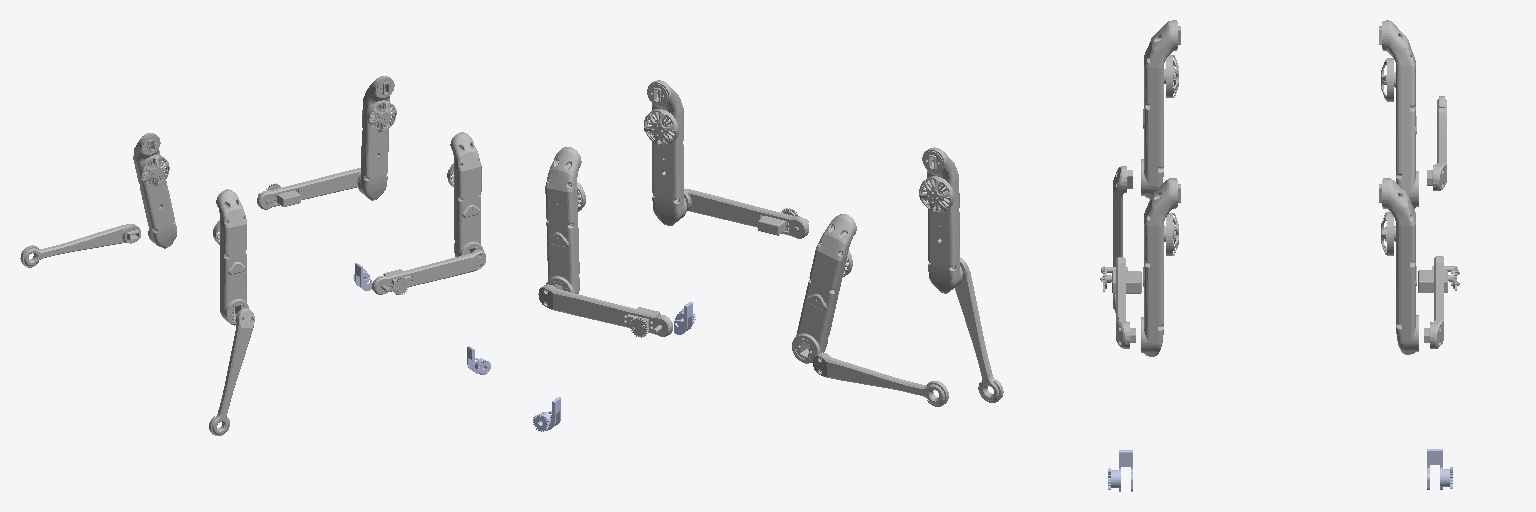
URDF robot description (solo8_URDF_v4):
<?xml version="1.0" encoding="utf-8"?>
<!-- This URDF was automatically created by SolidWorks to URDF Exporter! Originally created by [author] ([email redacted]) 
     Commit Version: 1.6.0-1-g15f4949  Build Version: 1.6.7594.29634
     For more information, please see http://wiki.ros.org/sw_urdf_exporter -->
<robot
  name="solo8_URDF_v4">
  <link
    name="base_link">
    <inertial>
      <origin
        xyz="-0.000131243804565513 -2.1877512663984E-07 -0.0434999979123721"
        rpy="0 0 0" />
      <mass
        value="1.08310148935514" />
      <inertia
        ixx="0.00078292100000959"
        ixy="-2.4726499499223E-09"
        ixz="-3.63300254721981E-10"
        iyy="0.00259878031126529"
        iyz="-1.55590918624866E-08"
        izz="0.00245312418407862" />
    </inertial>
    <visual>
      <origin
        xyz="0 0 0"
        rpy="0 0 0" />
      <geometry>
        <mesh
          filename="base_link.STL" />
      </geometry>
      <material
        name="">
        <color
          rgba="0.752941176470588 0.752941176470588 0.752941176470588 1" />
      </material>
    </visual>
    <collision>
      <origin
        xyz="0 0 0"
        rpy="0 0 0" />
      <geometry>
        <mesh
          filename="base_link.STL" />
      </geometry>
    </collision>
  </link>
  <link
    name="rear_left_upper_leg">
    <inertial>
      <origin
        xyz="0.0260463560497017 1.96058726216197E-05 0.0818383915482504"
        rpy="0 0 0" />
      <mass
        value="0.0878533269246308" />
      <inertia
        ixx="0.000160165468405235"
        ixy="5.98615459821546E-09"
        ixz="-1.01735410352558E-05"
        iyy="0.00015477566312305"
        iyz="7.25231006351549E-08"
        izz="1.45900829531821E-05" />
    </inertial>
    <visual>
      <origin
        xyz="0 0 0"
        rpy="0 0 0" />
      <geometry>
        <mesh
          filename="rear_left_upper_leg.STL" />
      </geometry>
      <material
        name="">
        <color
          rgba="0.752941176470588 0.752941176470588 0.752941176470588 1" />
      </material>
    </visual>
    <collision>
      <origin
        xyz="0 0 0"
        rpy="0 0 0" />
      <geometry>
        <mesh
          filename="rear_left_upper_leg.STL" />
      </geometry>
    </collision>
  </link>
  <joint
    name="HL_HFE"
    type="revolute">
    <origin
      xyz="0.19 -0.09805 -0.0435"
      rpy="3.1416 0 -1.5708" />
    <parent
      link="base_link" />
    <child
      link="rear_left_upper_leg" />
    <axis
      xyz="1 0 0" />
    <limit
      lower="-10"
      upper="10"
      effort="1000"
      velocity="1000" />
  </joint>
  <link
    name="rear_left_lower_leg">
    <inertial>
      <origin
        xyz="0.00798615918661305 -1.97240518362563E-09 0.0871955396993983"
        rpy="0 0 0" />
      <mass
        value="0.0568162066846248" />
      <inertia
        ixx="0.000116328623228087"
        ixy="-1.4413584564191E-12"
        ixz="-2.14214688984561E-06"
        iyy="0.000115301324090038"
        iyz="-6.13770553608215E-10"
        izz="3.92621698046174E-06" />
    </inertial>
    <visual>
      <origin
        xyz="0 0 0"
        rpy="0 0 0" />
      <geometry>
        <mesh
          filename="rear_left_lower_leg.STL" />
      </geometry>
      <material
        name="">
        <color
          rgba="0.752941176470588 0.752941176470588 0.752941176470588 1" />
      </material>
    </visual>
    <collision>
      <origin
        xyz="0 0 0"
        rpy="0 0 0" />
      <geometry>
        <mesh
          filename="rear_left_lower_leg.STL" />
      </geometry>
    </collision>
  </link>
  <joint
    name="HL_KFE"
    type="revolute">
    <origin
      xyz="0.04295 0 0.16"
      rpy="0 0 0" />
    <parent
      link="rear_left_upper_leg" />
    <child
      link="rear_left_lower_leg" />
    <axis
      xyz="1 0 0" />
    <limit
      lower="-10"
      upper="10"
      effort="1000"
      velocity="1000" />
  </joint>
  <link
    name="left_foot">
    <inertial>
      <origin
        xyz="0.00386607635157957 0.00146889156210511 -0.00743039693171482"
        rpy="0 0 0" />
      <mass
        value="0.00519421726516874" />
      <inertia
        ixx="5.76032025518373E-07"
        ixy="-1.81210163948847E-07"
        ixz="-1.51341930469166E-07"
        iyy="6.44238012165571E-07"
        iyz="-5.16314838570299E-08"
        izz="6.36337715625955E-07" />
    </inertial>
    <visual>
      <origin
        xyz="0 0 0"
        rpy="0 0 0" />
      <geometry>
        <mesh
          filename="left_foot.STL" />
      </geometry>
      <material
        name="">
        <color
          rgba="0.792156862745098 0.819607843137255 0.933333333333333 1" />
      </material>
    </visual>
    <collision>
      <origin
        xyz="0 0 0"
        rpy="0 0 0" />
      <geometry>
        <mesh
          filename="left_foot.STL" />
      </geometry>
    </collision>
  </link>
  <joint
    name="HL_ANKLE"
    type="revolute">
    <origin
      xyz="0.009 0 0.16"
      rpy="-1.5708 0 1.5708" />
    <parent
      link="rear_left_lower_leg" />
    <child
      link="left_foot" />
    <axis
      xyz="0 0 -1" />
    <limit
      lower="-10"
      upper="10"
      effort="1000"
      velocity="1000" />
  </joint>
  <link
    name="rear_right_upper_leg">
    <inertial>
      <origin
        xyz="0.0260463416796457 0.0818382398206385 -1.96475353925196E-05"
        rpy="0 0 0" />
      <mass
        value="0.0878534992285754" />
      <inertia
        ixx="0.000160166486207479"
        ixy="-1.0173668173731E-05"
        ixz="-6.02181345311133E-09"
        iyy="1.45901216597277E-05"
        iyz="-7.2801573302373E-08"
        izz="0.000154776708796327" />
    </inertial>
    <visual>
      <origin
        xyz="0 0 0"
        rpy="0 0 0" />
      <geometry>
        <mesh
          filename="rear_right_upper_leg.STL" />
      </geometry>
      <material
        name="">
        <color
          rgba="0.752941176470588 0.752941176470588 0.752941176470588 1" />
      </material>
    </visual>
    <collision>
      <origin
        xyz="0 0 0"
        rpy="0 0 0" />
      <geometry>
        <mesh
          filename="rear_right_upper_leg.STL" />
      </geometry>
    </collision>
  </link>
  <joint
    name="HR_HFE"
    type="revolute">
    <origin
      xyz="0.19 0.09805 -0.0435"
      rpy="-1.5708 0 1.5708" />
    <parent
      link="base_link" />
    <child
      link="rear_right_upper_leg" />
    <axis
      xyz="1 0 0" />
    <limit
      lower="-10"
      upper="10"
      effort="1000"
      velocity="1000" />
  </joint>
  <link
    name="rear_right_lower_leg">
    <inertial>
      <origin
        xyz="-0.00797510895141648 2.02971700558052E-09 0.0871955400372977"
        rpy="0 0 0" />
      <mass
        value="0.0568162062662583" />
      <inertia
        ixx="0.000116328622478411"
        ixy="-1.44920779054025E-12"
        ixz="2.14214690301966E-06"
        iyy="0.000115301448850468"
        iyz="7.24188217803086E-10"
        izz="3.92609149618552E-06" />
    </inertial>
    <visual>
      <origin
        xyz="0 0 0"
        rpy="0 0 0" />
      <geometry>
        <mesh
          filename="rear_right_lower_leg.STL" />
      </geometry>
      <material
        name="">
        <color
          rgba="0.752941176470588 0.752941176470588 0.752941176470588 1" />
      </material>
    </visual>
    <collision>
      <origin
        xyz="0 0 0"
        rpy="0 0 0" />
      <geometry>
        <mesh
          filename="rear_right_lower_leg.STL" />
      </geometry>
    </collision>
  </link>
  <joint
    name="HR_KFE"
    type="revolute">
    <origin
      xyz="0.04295 0.16 0"
      rpy="1.5708 0 -3.1416" />
    <parent
      link="rear_right_upper_leg" />
    <child
      link="rear_right_lower_leg" />
    <axis
      xyz="-1 0 0" />
    <limit
      lower="-10"
      upper="10"
      effort="1000"
      velocity="1000" />
  </joint>
  <link
    name="right_foot">
    <inertial>
      <origin
        xyz="0.00429876417655284 0.00138010818742385 0.00655818213531878"
        rpy="0 0 0" />
      <mass
        value="0.00552399106597403" />
      <inertia
        ixx="6.66262862375418E-07"
        ixy="-2.06352165604718E-07"
        ixz="1.58932083905544E-07"
        iyy="7.33640914324836E-07"
        iyz="4.23025973019174E-08"
        izz="7.06402190944134E-07" />
    </inertial>
    <visual>
      <origin
        xyz="0 0 0"
        rpy="0 0 0" />
      <geometry>
        <mesh
          filename="right_foot.STL" />
      </geometry>
      <material
        name="">
        <color
          rgba="0.792156862745098 0.819607843137255 0.933333333333333 1" />
      </material>
    </visual>
    <collision>
      <origin
        xyz="0 0 0"
        rpy="0 0 0" />
      <geometry>
        <mesh
          filename="right_foot.STL" />
      </geometry>
    </collision>
  </link>
  <joint
    name="HR_ANKLE"
    type="revolute">
    <origin
      xyz="-0.00925 0 0.16"
      rpy="-1.5708 0 1.5708" />
    <parent
      link="rear_right_lower_leg" />
    <child
      link="right_foot" />
    <axis
      xyz="0 0 1" />
    <limit
      lower="-10"
      upper="10"
      effort="1000"
      velocity="1000" />
  </joint>
  <link
    name="front_left_upper_leg">
    <inertial>
      <origin
        xyz="0.0260463213501499 1.96051061115143E-05 0.0818380959136073"
        rpy="0 0 0" />
      <mass
        value="0.0878537035476835" />
      <inertia
        ixx="0.000160165160326423"
        ixy="5.97988996236533E-09"
        ixz="-1.01734766862367E-05"
        iyy="0.000154775389279724"
        iyz="7.2491964765402E-08"
        izz="1.45901195907274E-05" />
    </inertial>
    <visual>
      <origin
        xyz="0 0 0"
        rpy="0 0 0" />
      <geometry>
        <mesh
          filename="front_left_upper_leg.STL" />
      </geometry>
      <material
        name="">
        <color
          rgba="0.752941176470588 0.752941176470588 0.752941176470588 1" />
      </material>
    </visual>
    <collision>
      <origin
        xyz="0 0 0"
        rpy="0 0 0" />
      <geometry>
        <mesh
          filename="front_left_upper_leg.STL" />
      </geometry>
    </collision>
  </link>
  <joint
    name="FL_HFE"
    type="revolute">
    <origin
      xyz="-0.19 -0.09805 -0.0435"
      rpy="3.1416 0 -1.5708" />
    <parent
      link="base_link" />
    <child
      link="front_left_upper_leg" />
    <axis
      xyz="1 0 0" />
    <limit
      lower="-10"
      upper="10"
      effort="1000"
      velocity="1000" />
  </joint>
  <link
    name="front_left_lower_leg">
    <inertial>
      <origin
        xyz="0.000812954907024432 -0.0709663568959096 3.16708653191888E-08"
        rpy="0 0 0" />
      <mass
        value="0.0352176463863073" />
      <inertia
        ixx="0.000102544957886135"
        ixy="-1.95338237262207E-06"
        ixz="-1.83862183857662E-12"
        iyy="1.73308119670232E-06"
        iyz="-6.55038614981896E-11"
        izz="0.000101666357617047" />
    </inertial>
    <visual>
      <origin
        xyz="0 0 0"
        rpy="0 0 0" />
      <geometry>
        <mesh
          filename="front_left_lower_leg.STL" />
      </geometry>
      <material
        name="">
        <color
          rgba="0.752941176470588 0.752941176470588 0.752941176470588 1" />
      </material>
    </visual>
    <collision>
      <origin
        xyz="0 0 0"
        rpy="0 0 0" />
      <geometry>
        <mesh
          filename="front_left_lower_leg.STL" />
      </geometry>
    </collision>
  </link>
  <joint
    name="FL_KFE"
    type="revolute">
    <origin
      xyz="0.0519500000000016 0 0.16"
      rpy="-1.5707963267949 0 -3.14159265358979" />
    <parent
      link="front_left_upper_leg" />
    <child
      link="front_left_lower_leg" />
    <axis
      xyz="-1 0 0" />
    <limit
      lower="-10"
      upper="10"
      effort="1000"
      velocity="1000" />
  </joint>
  <link
    name="front_right_upper_leg">
    <inertial>
      <origin
        xyz="0.0260462217616799 0.0818371669464919 -1.96409034333711E-05"
        rpy="0 0 0" />
      <mass
        value="0.087854821599005" />
      <inertia
        ixx="0.000160172872993533"
        ixy="-1.01744862780989E-05"
        ixz="-6.02462268517269E-09"
        iyy="1.45900414152232E-05"
        iyz="-7.28060149796806E-08"
        izz="0.000154783006946061" />
    </inertial>
    <visual>
      <origin
        xyz="0 0 0"
        rpy="0 0 0" />
      <geometry>
        <mesh
          filename="front_right_upper_leg.STL" />
      </geometry>
      <material
        name="">
        <color
          rgba="0.752941176470588 0.752941176470588 0.752941176470588 1" />
      </material>
    </visual>
    <collision>
      <origin
        xyz="0 0 0"
        rpy="0 0 0" />
      <geometry>
        <mesh
          filename="front_right_upper_leg.STL" />
      </geometry>
    </collision>
  </link>
  <joint
    name="FR_HFE"
    type="revolute">
    <origin
      xyz="-0.190000000000001 0.0980500000000003 -0.0434999999999995"
      rpy="-1.5707963267949 0 1.5707963267949" />
    <parent
      link="base_link" />
    <child
      link="front_right_upper_leg" />
    <axis
      xyz="1 0 0" />
    <limit
      lower="-10"
      upper="10"
      effort="1000"
      velocity="1000" />
  </joint>
  <link
    name="front_right_lower_leg">
    <inertial>
      <origin
        xyz="0.00081295491320274 -0.0709663564341324 3.1561713798034E-08"
        rpy="0 0 0" />
      <mass
        value="0.0352176467961685" />
      <inertia
        ixx="0.000102544958492936"
        ixy="-1.95338234788562E-06"
        ixz="-1.84048280454168E-12"
        iyy="1.73308122040895E-06"
        iyz="-6.53557905951406E-11"
        izz="0.000101666358172514" />
    </inertial>
    <visual>
      <origin
        xyz="0 0 0"
        rpy="0 0 0" />
      <geometry>
        <mesh
          filename="front_right_lower_leg.STL" />
      </geometry>
      <material
        name="">
        <color
          rgba="0.752941176470588 0.752941176470588 0.752941176470588 1" />
      </material>
    </visual>
    <collision>
      <origin
        xyz="0 0 0"
        rpy="0 0 0" />
      <geometry>
        <mesh
          filename="front_right_lower_leg.STL" />
      </geometry>
    </collision>
  </link>
  <joint
    name="FR_KFE"
    type="revolute">
    <origin
      xyz="0.051950000000001 0.16 0"
      rpy="0 0 -3.14159265358979" />
    <parent
      link="front_right_upper_leg" />
    <child
      link="front_right_lower_leg" />
    <axis
      xyz="-1 0 0" />
    <limit
      lower="-10"
      upper="10"
      effort="1000"
      velocity="1000" />
  </joint>
</robot>

--- Facts derived from the render (not from the file) ---
Views: 3 orthographic renders of the robot side by side, from view 1: azimuth 30°, elevation 25°; view 2: azimuth 150°, elevation 25°; view 3: azimuth 270°, elevation 25°.
Robot: solo8_URDF_v4 — 11 links, 10 joints (10 revolute); root link base_link; default pose: all joints at 0.
Links seen in each view (by area): view 1: front_left_upper_leg, rear_right_upper_leg, rear_left_upper_leg, front_right_upper_leg, rear_left_lower_leg, rear_right_lower_leg, front_left_lower_leg, front_right_lower_leg; view 2: front_right_upper_leg, front_left_upper_leg, rear_right_upper_leg, rear_left_upper_leg, rear_right_lower_leg, rear_left_lower_leg, front_right_lower_leg, front_left_lower_leg, right_foot; view 3: rear_left_upper_leg, rear_right_upper_leg, front_left_upper_leg, front_right_upper_leg, rear_right_lower_leg, rear_left_lower_leg, front_left_lower_leg, front_right_lower_leg, right_foot, left_foot.
Link boxes in pixels (x1,y1,x2,y2): front_left_upper_leg: (213, 189, 248, 325); rear_right_upper_leg: (358, 76, 396, 200); rear_left_upper_leg: (447, 132, 483, 256); front_right_upper_leg: (133, 133, 176, 248); rear_left_lower_leg: (372, 249, 485, 294); rear_right_lower_leg: (257, 168, 360, 209); front_left_lower_leg: (209, 308, 254, 435); front_right_lower_leg: (20, 224, 140, 267); front_right_upper_leg: (792, 214, 856, 363); front_left_upper_leg: (919, 147, 962, 293); rear_right_upper_leg: (545, 147, 585, 293); rear_left_upper_leg: (644, 80, 686, 225); rear_right_lower_leg: (538, 284, 672, 337); rear_left_lower_leg: (684, 189, 808, 238); front_right_lower_leg: (813, 352, 948, 406); front_left_lower_leg: (955, 258, 1003, 402); right_foot: (533, 397, 560, 431); rear_left_upper_leg: (1141, 178, 1180, 356); rear_right_upper_leg: (1379, 178, 1418, 354); front_left_upper_leg: (1141, 20, 1180, 198); front_right_upper_leg: (1379, 20, 1418, 208); rear_right_lower_leg: (1418, 256, 1459, 348); rear_left_lower_leg: (1100, 257, 1141, 348); front_left_lower_leg: (1113, 166, 1132, 312); front_right_lower_leg: (1427, 96, 1446, 190); right_foot: (1427, 449, 1452, 489); left_foot: (1108, 450, 1132, 491).
Bounding box of the posed robot: 0.5779 × 0.3676 × 0.3504 m (x, y, z).
Meshes: 11 distinct files referenced, 10 mesh visuals loaded (10 binary STL); not drawn: 1 (reference not matched to a file when rendering).